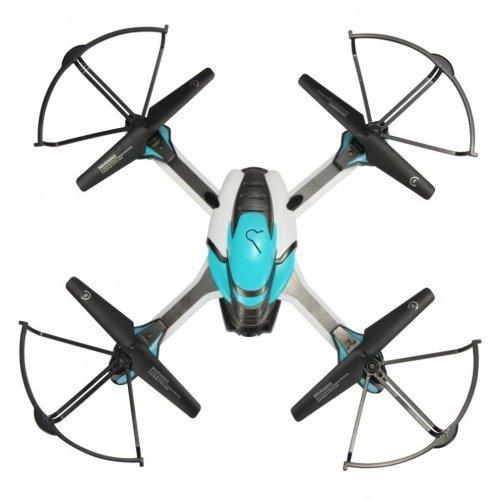drone: (13, 45, 491, 479)
